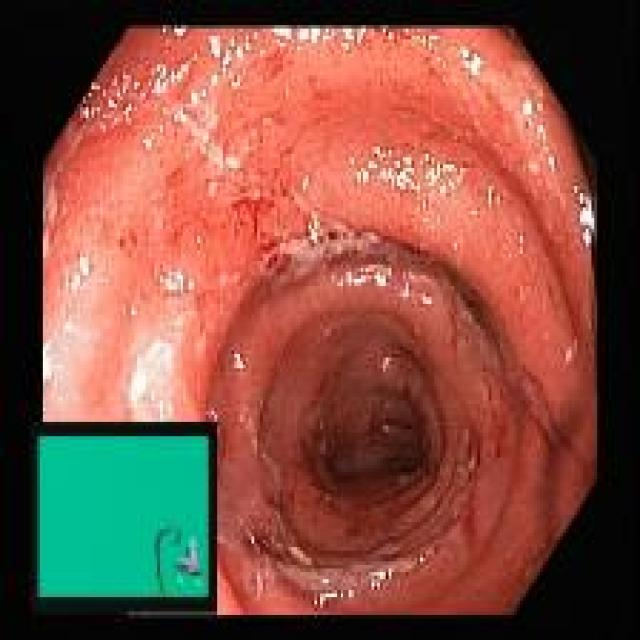ulcerative-colitis: (45, 28, 596, 614)
